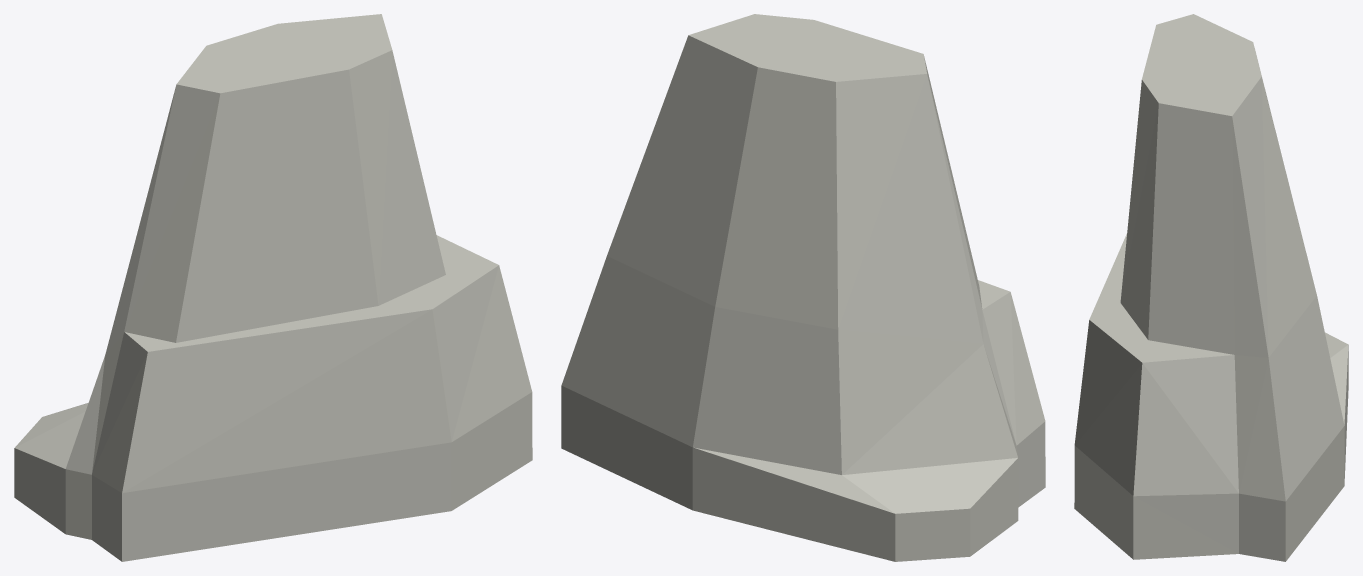
The model's file is Model_Forest_2x1B.fbx.
3 views of the same model, side by side, from view 1: azimuth 30°, elevation 25°; view 2: azimuth 150°, elevation 25°; view 3: azimuth 270°, elevation 25° (orthographic). The views are drawn at different scales.
Parts seen in each view (by area): view 1: Model_Frost_2x1B; view 2: Model_Frost_2x1B; view 3: Model_Frost_2x1B.
Boxes of the visible parts, x1,y1,x2,y2 form: Model_Frost_2x1B: (14, 14, 532, 561); Model_Frost_2x1B: (561, 14, 1045, 561); Model_Frost_2x1B: (1074, 14, 1348, 561).
Size of the model in its own units: 322 by 307 by 191.
Materials: 1 (1 with a texture image).
